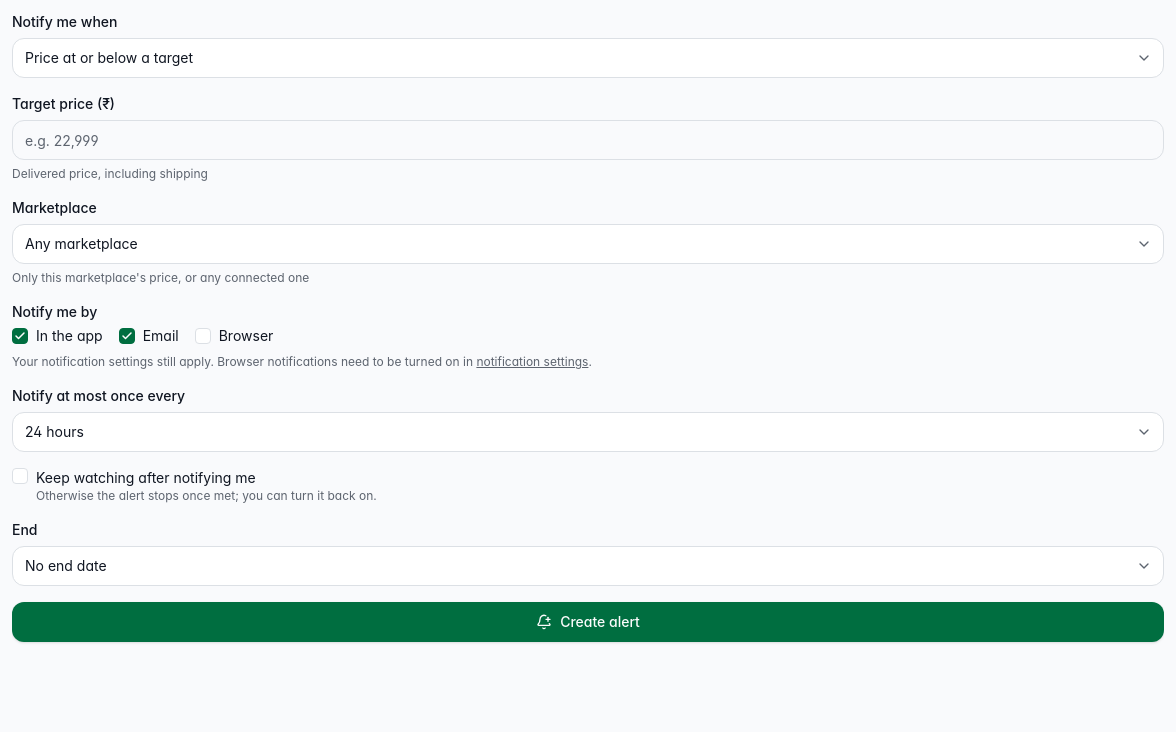
Test: 10. price alert creation › rejects an unparseable amount
Step 1. Type "twenty" into the field labelled "Target price (₹)" → (588, 140), box left=12, top=120, right=1164, bottom=160
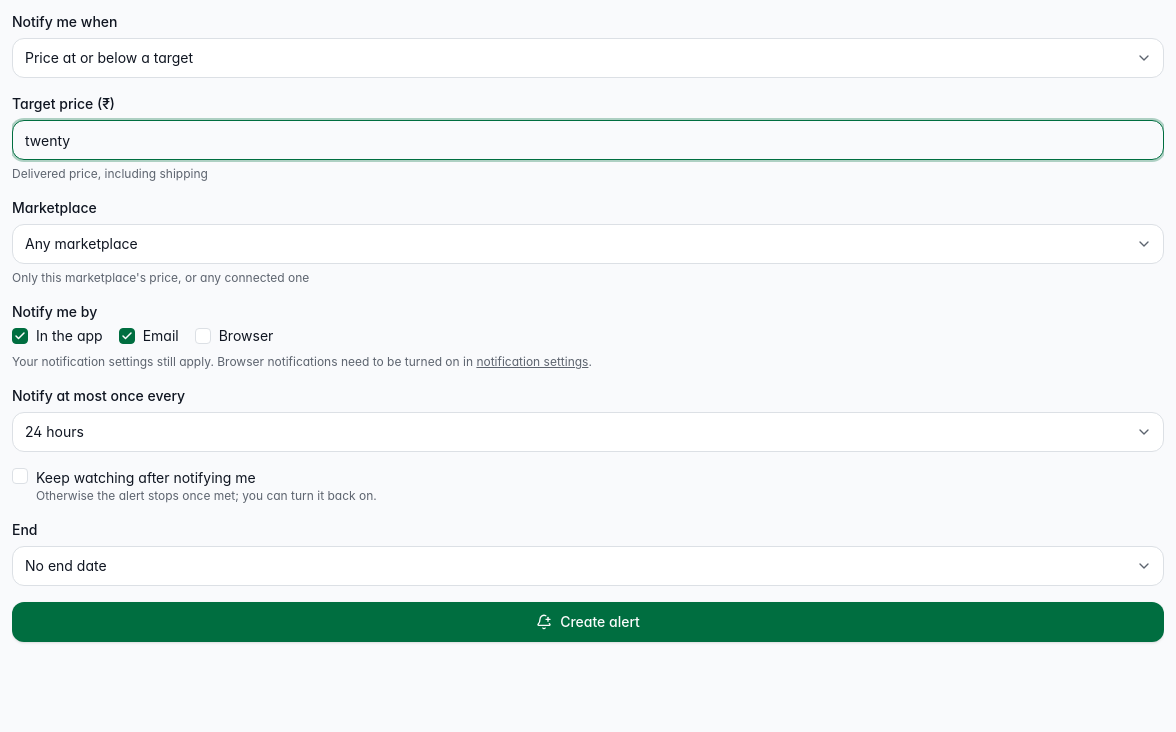
Step 2. Click the button "Create alert" → click(588, 622), box left=12, top=602, right=1164, bottom=642
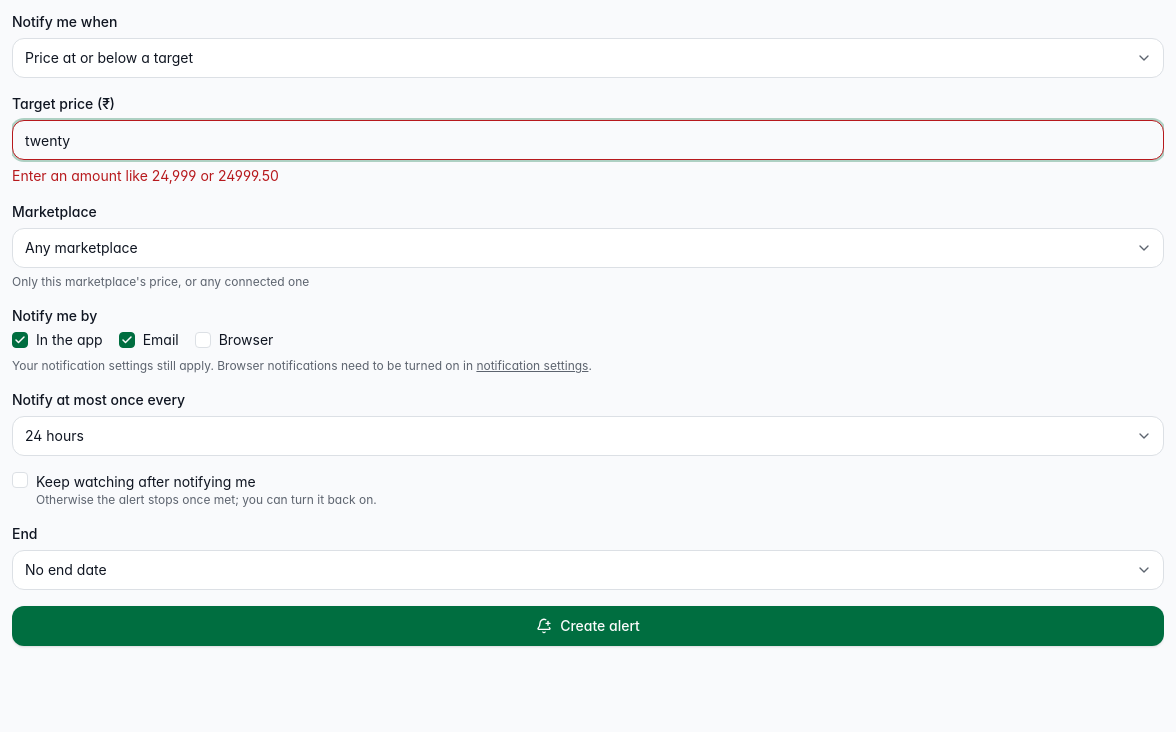
Expected: the text "Enter an amount like 24,999 or 24999.50" is shown, left=12, top=167, right=279, bottom=184
